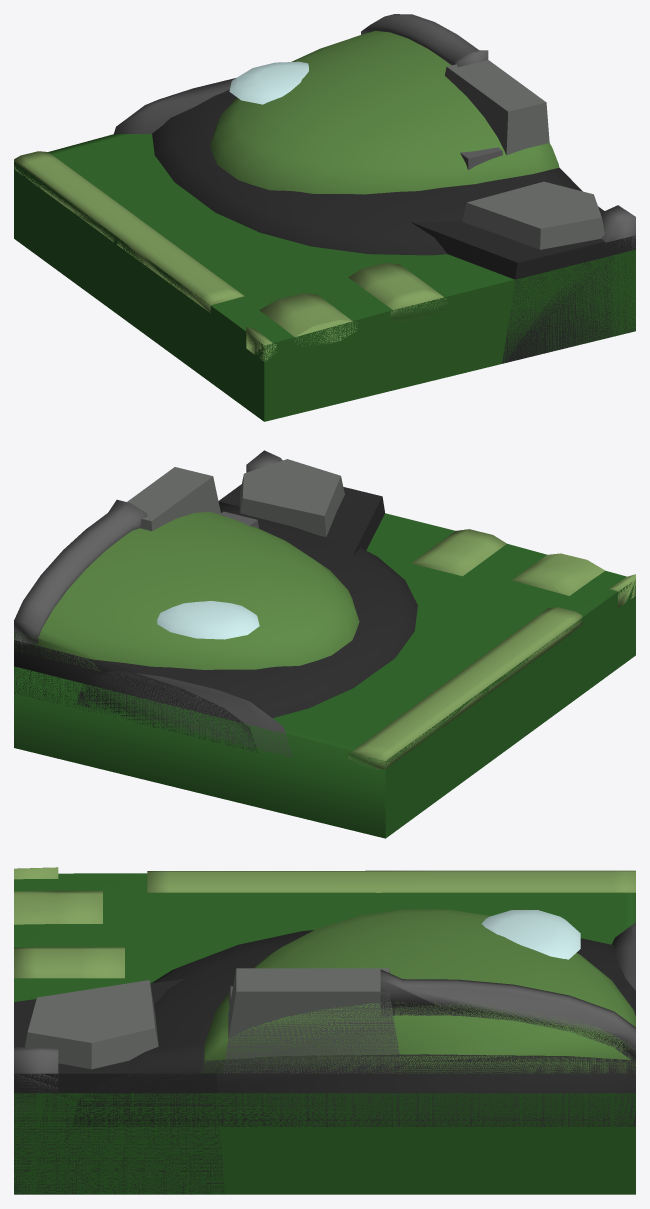
File: newshj-161-f2.glb
3 views of the same model, one above another, from view 1: azimuth 30°, elevation 25°; view 2: azimuth 150°, elevation 25°; view 3: azimuth 270°, elevation 25° (orthographic). The views are drawn at different scales.
Parts seen in each view (by area): view 1: newshj-161-f2; view 2: newshj-161-f2; view 3: newshj-161-f2.
Part boxes in pixels (left/top/right/bottom): newshj-161-f2: left=14, top=14, right=635, bottom=421; newshj-161-f2: left=14, top=450, right=635, bottom=838; newshj-161-f2: left=14, top=867, right=635, bottom=1194.
Size of the model in its own units: 2 by 0.8899 by 2.33.
